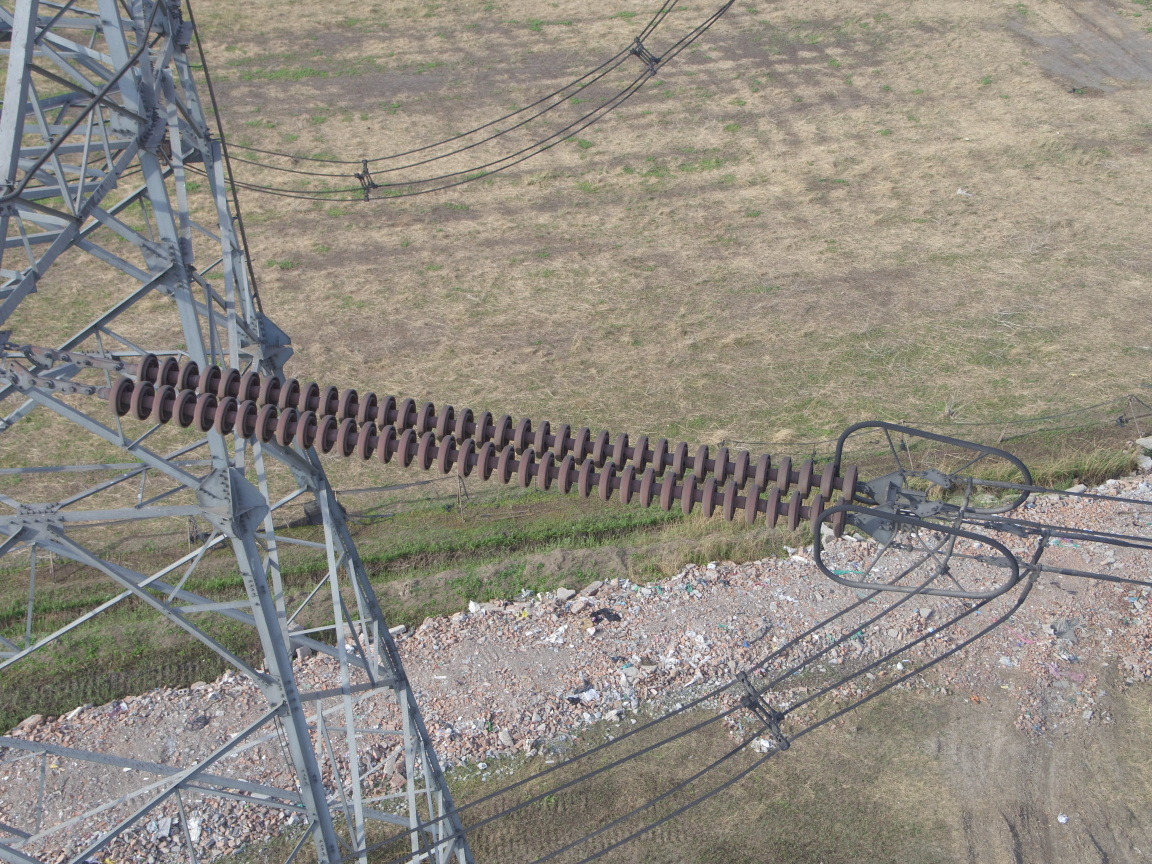insulator: (87, 347, 874, 539)
